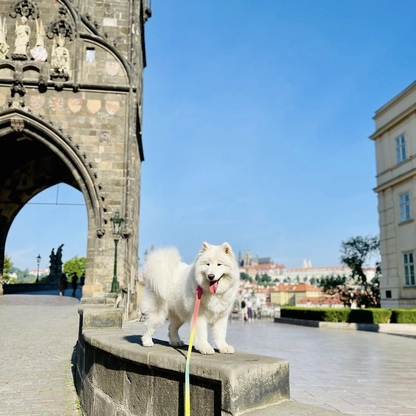samoyed: (127, 235, 243, 360)
